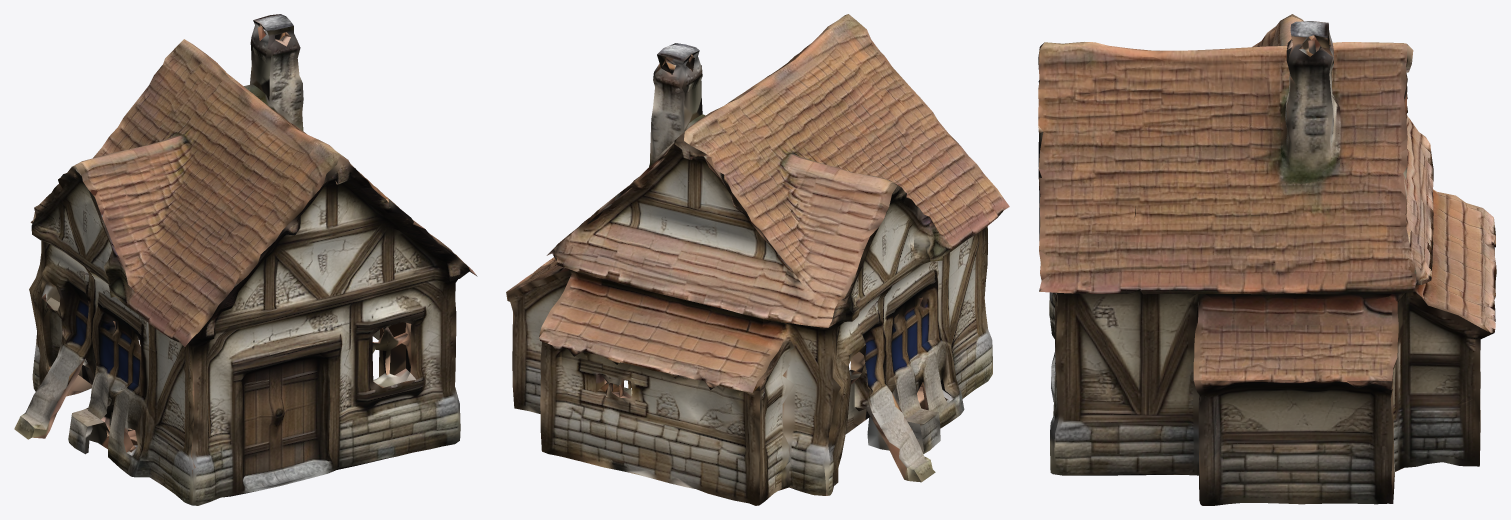
Rendered from workshop.glb.
The picture shows the model from 3 angles, left to right: view 1: azimuth 30°, elevation 25°; view 2: azimuth 150°, elevation 25°; view 3: azimuth 270°, elevation 25°; orthographic projection. The views are drawn at different scales.
Visible parts, largest first — view 1: Cottage; view 2: Cottage; view 3: Cottage.
Boxes of the visible parts, <box> form: Cottage: <box>14,14,477,505</box>; Cottage: <box>506,14,1009,505</box>; Cottage: <box>1038,14,1496,505</box>.
Bounding box in the file's own units: 7.8 × 7 × 7.07.
1 material, 1 textured.
